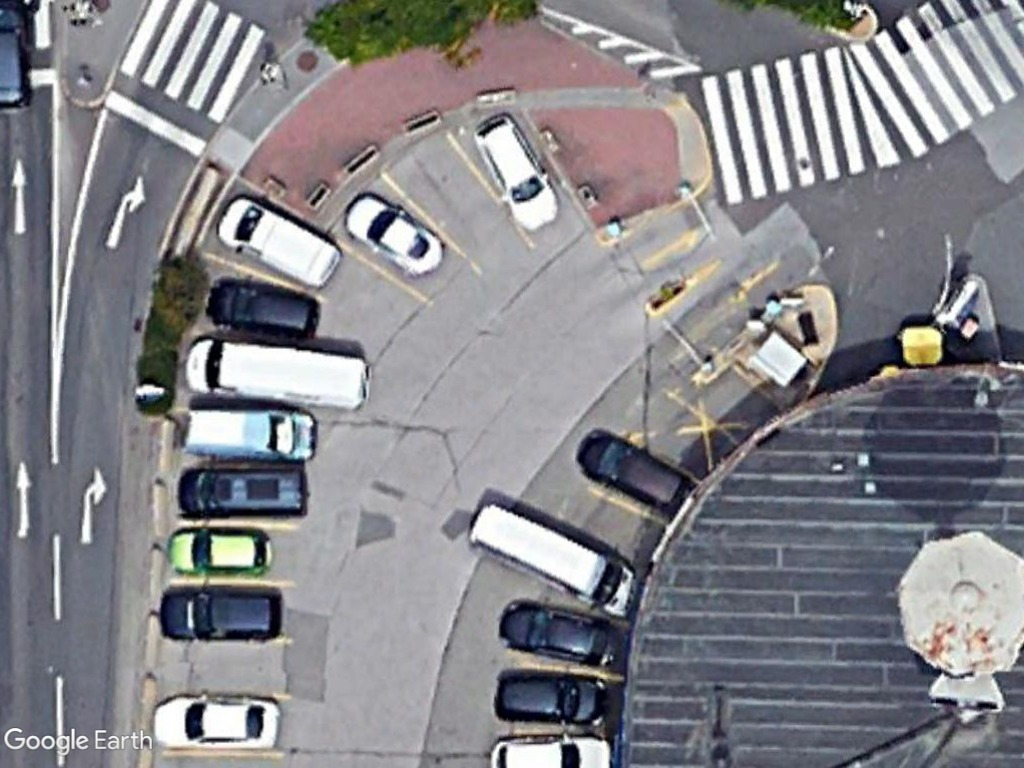car: (468, 110, 563, 235), (572, 430, 690, 512), (338, 192, 446, 280), (493, 597, 623, 670), (147, 690, 284, 754), (205, 274, 321, 343), (490, 671, 612, 730), (156, 589, 289, 643), (160, 527, 277, 579)
van: (462, 497, 643, 616), (182, 332, 376, 414), (211, 189, 344, 293), (173, 402, 321, 464), (170, 461, 312, 522)
